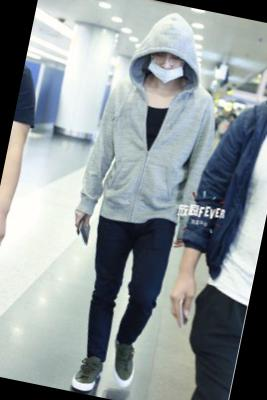mask_weared_incorrect: (145, 48, 188, 87)
